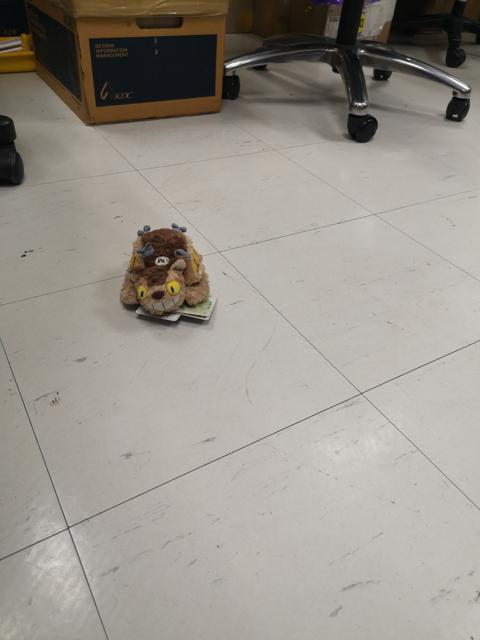nekobus: (115, 217, 216, 325)
